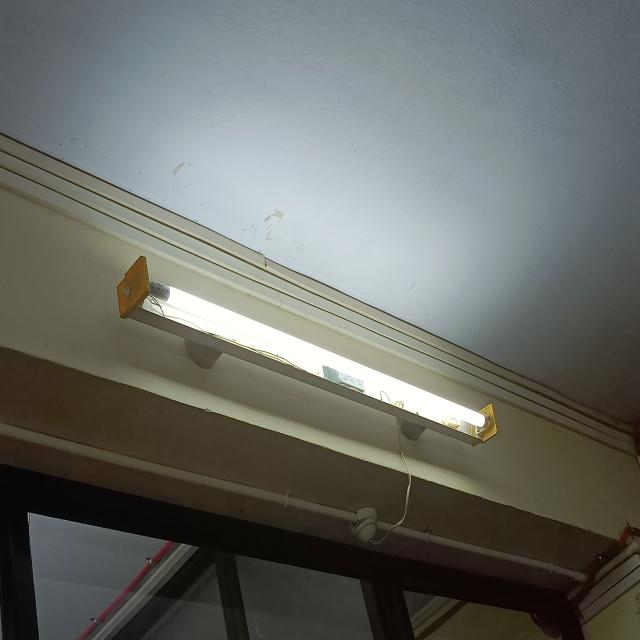tubelight_on: (104, 239, 506, 468)
